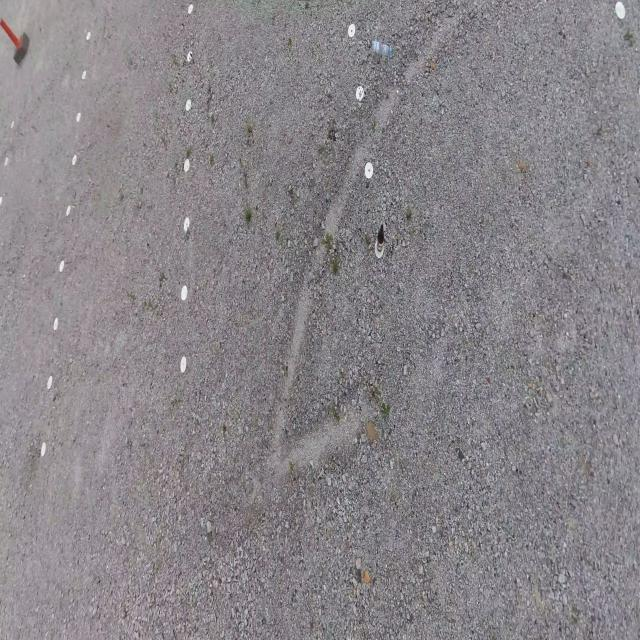rubbish: (373, 40, 392, 53), (376, 226, 384, 252)
